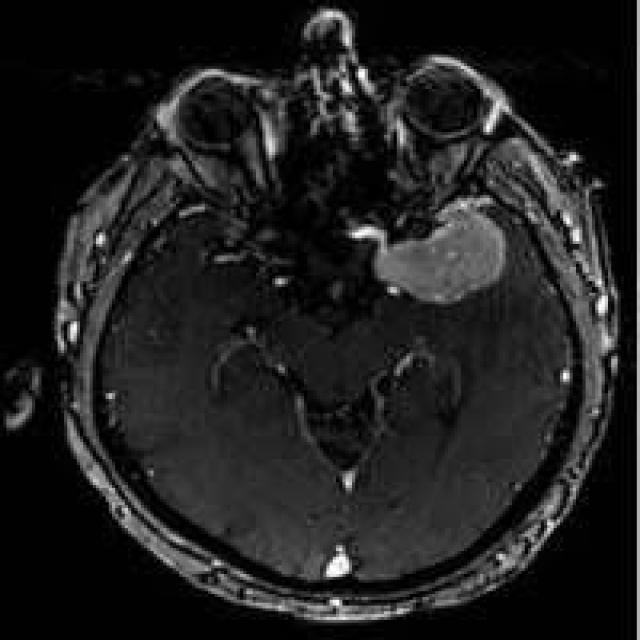Tumor: (374, 207, 509, 306)
